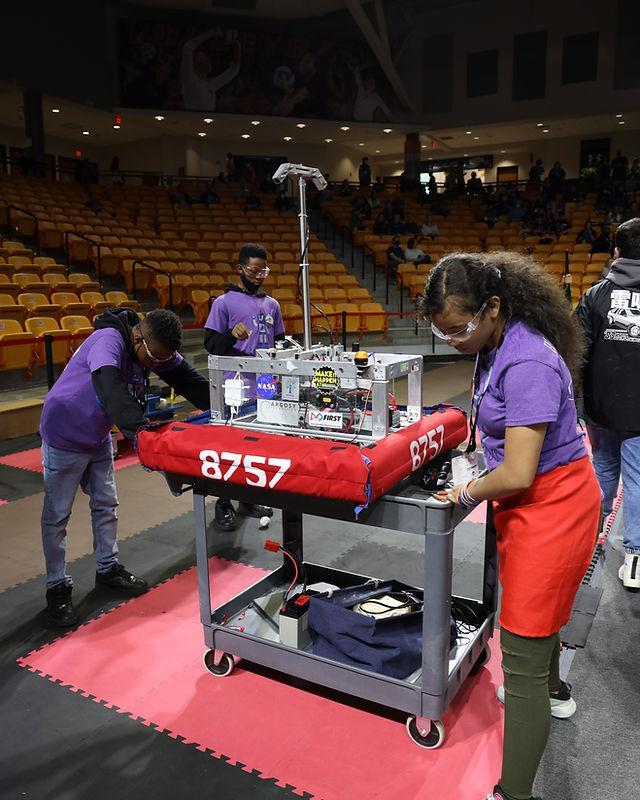robot: (134, 157, 471, 521)
